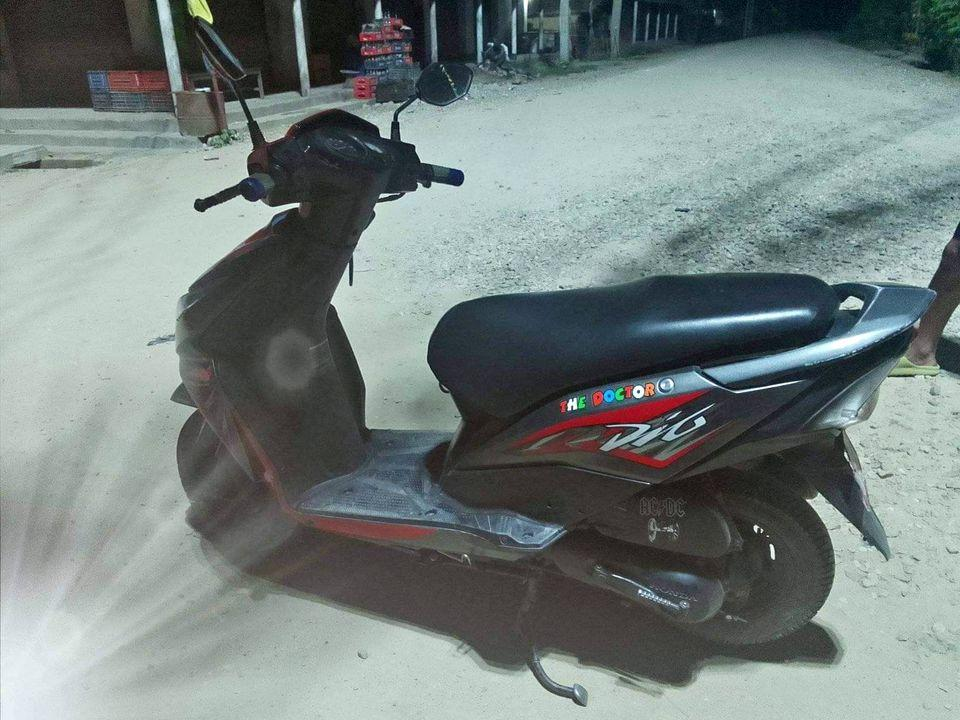scooter: (157, 20, 929, 692)
